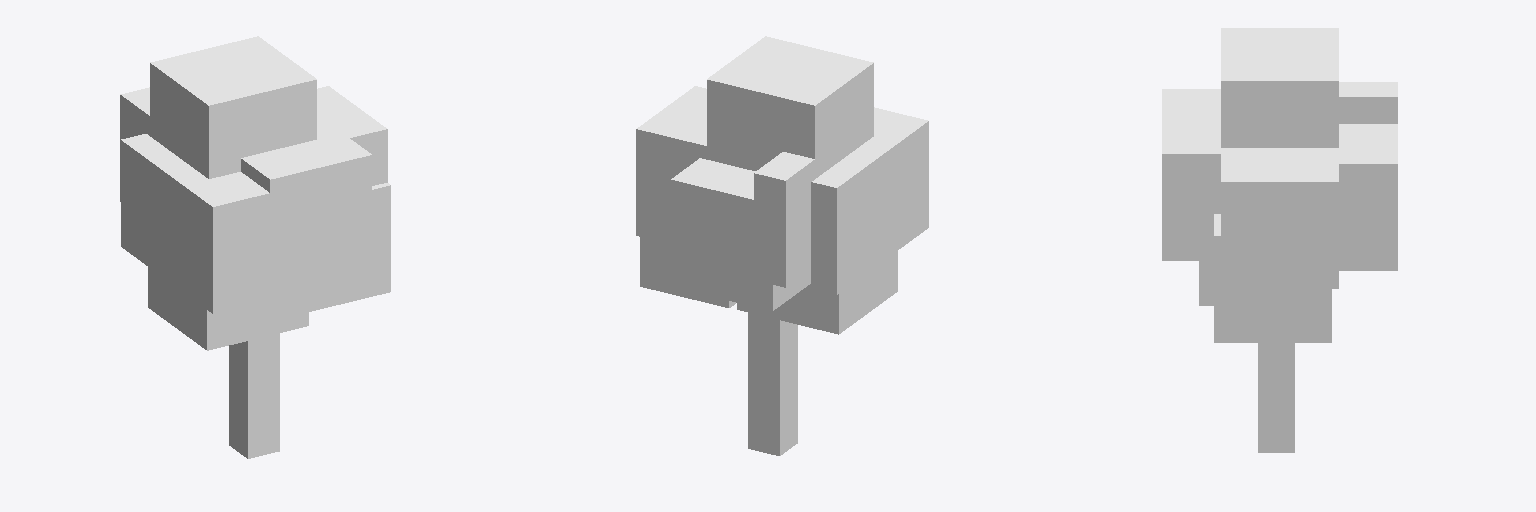
File: Arboles.obj
3 views of the same model, side by side, from view 1: azimuth 30°, elevation 25°; view 2: azimuth 150°, elevation 25°; view 3: azimuth 270°, elevation 25° (orthographic).
Visible parts, largest first — view 1: object 1; view 2: object 1; view 3: object 1.
Boxes of the visible parts, x1,y1,x2,y2 form: object 1: [120, 36, 390, 458]; object 1: [636, 36, 928, 455]; object 1: [1162, 28, 1397, 452].
Size of the model in its own units: 3.2 by 5.7 by 3.2.